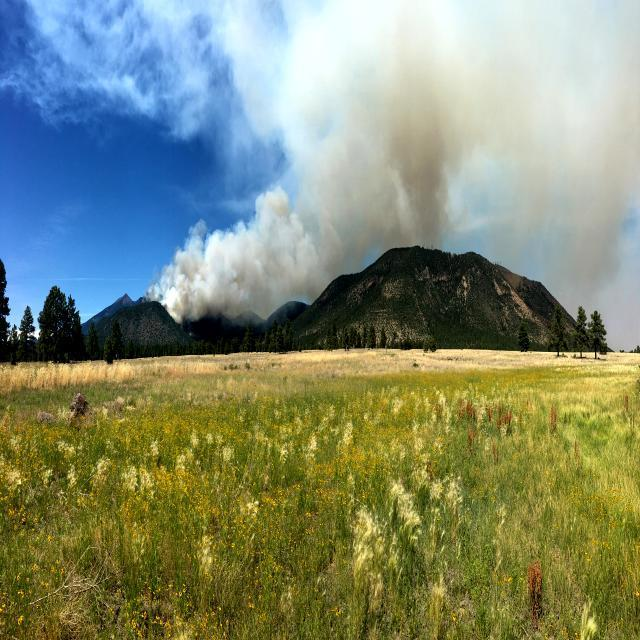Smoke: (138, 50, 472, 328)
